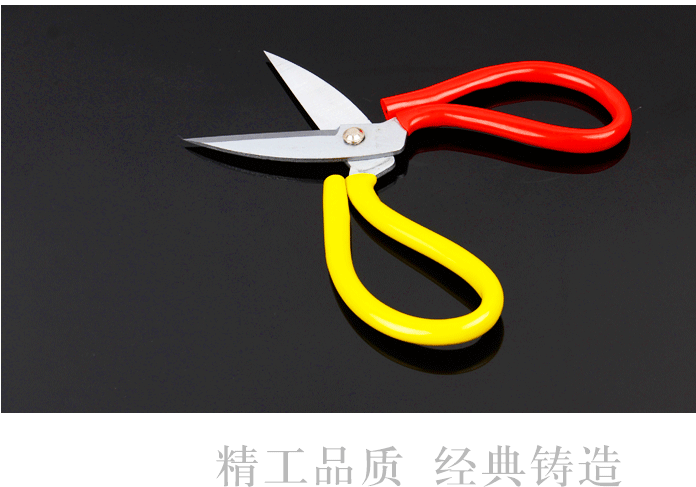scissor: (181, 46, 633, 375)
